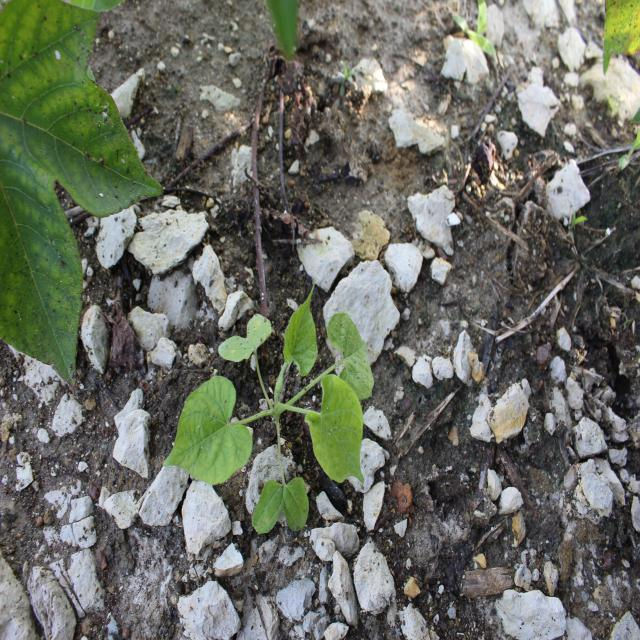MorningGlory: (160, 278, 376, 537)
